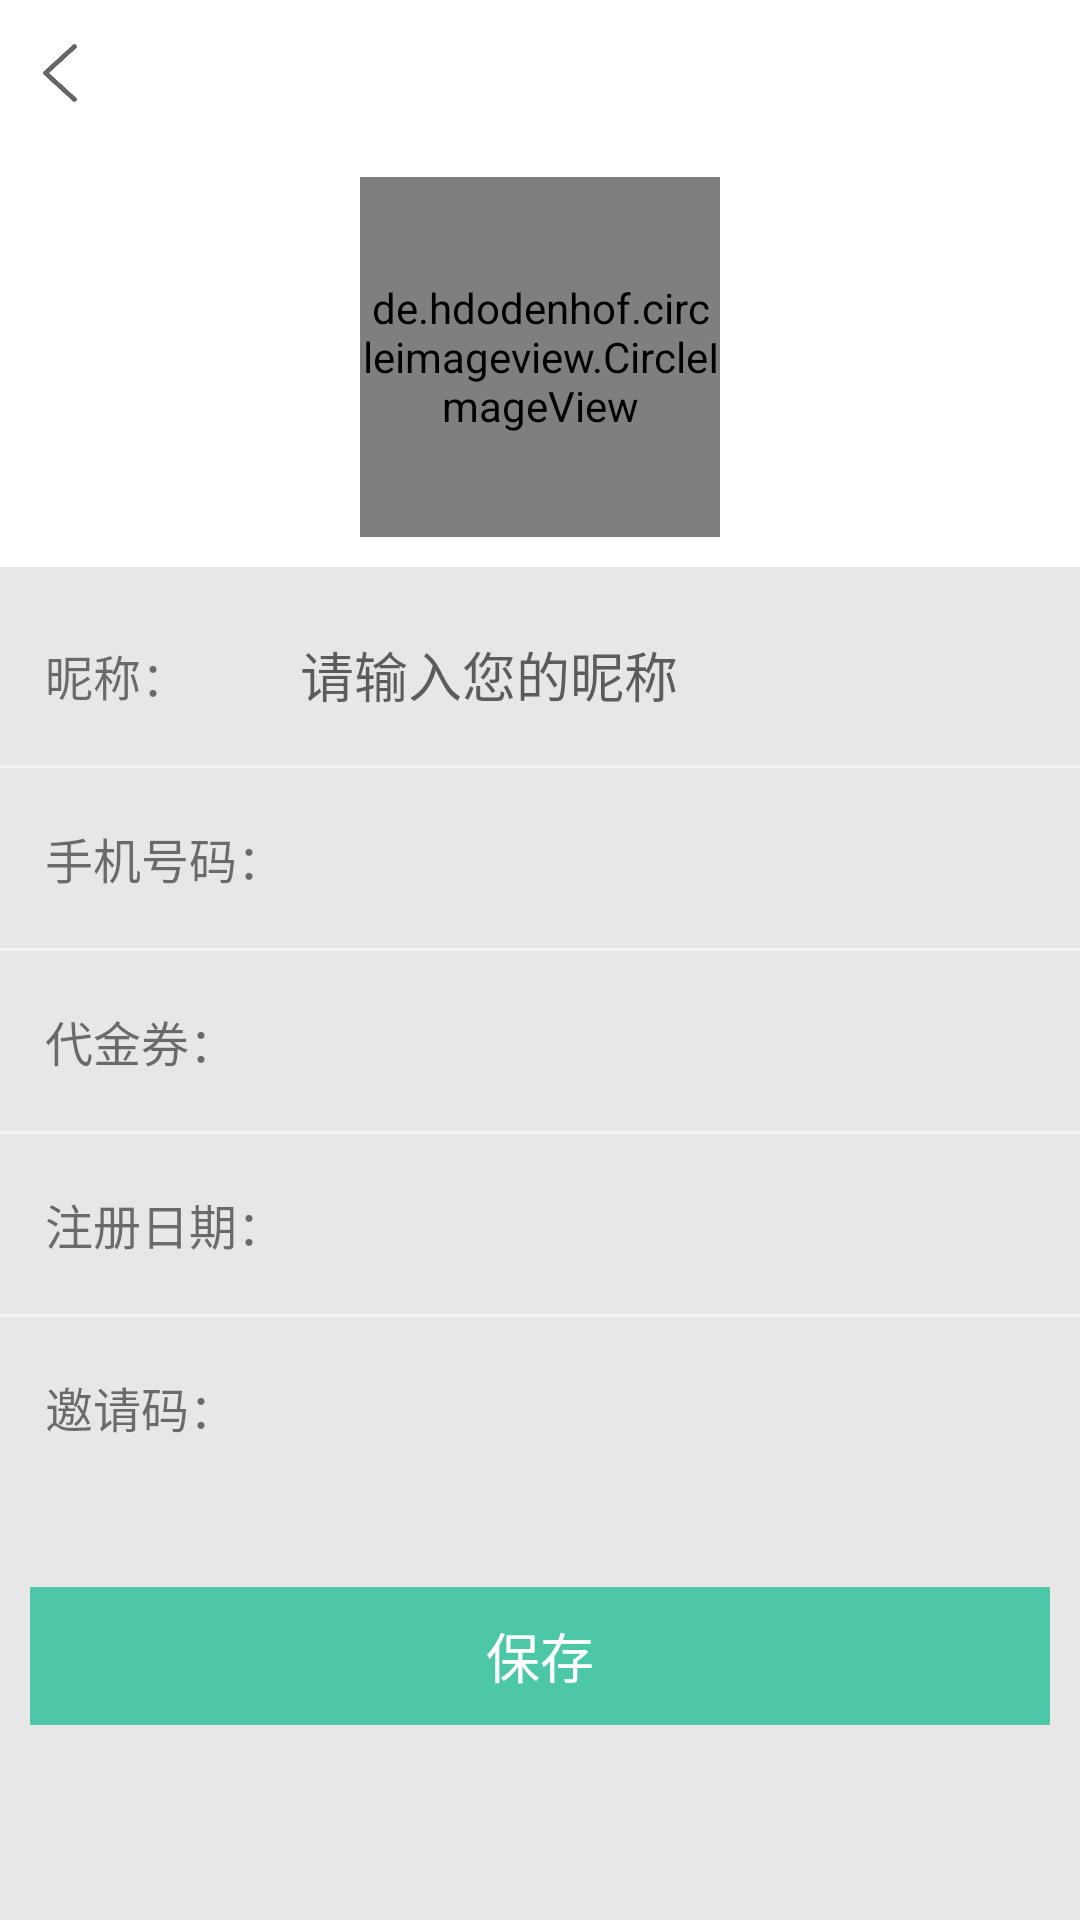

Icons on this 1080 × 1920 Android screen, each with its box as (x1, y1, x2, y2):
back: (43, 44, 77, 102)
